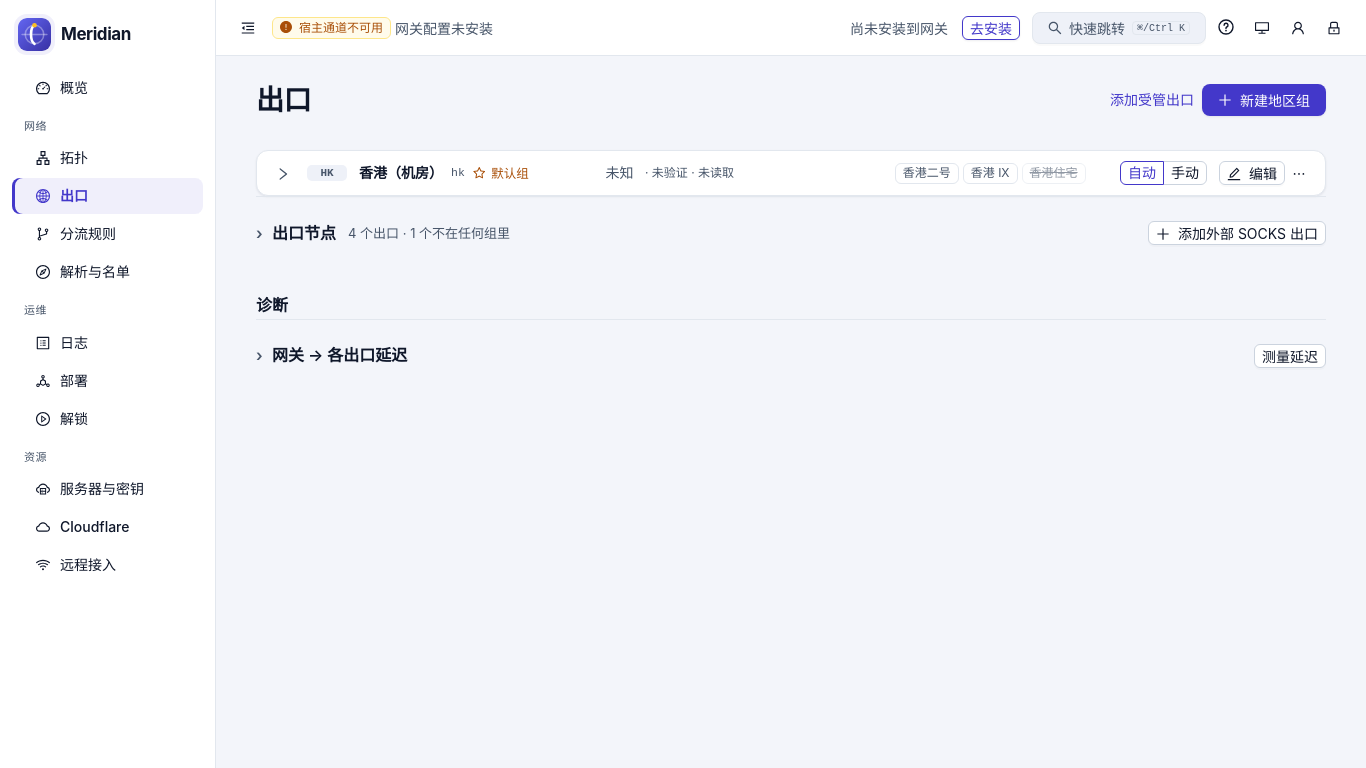
Test: region groups › shows each group as one collapsed row with the exit in use, and opens its members on demand
Click the button named "展开 ". click: x=283, y=173
box: [271,161,295,185]
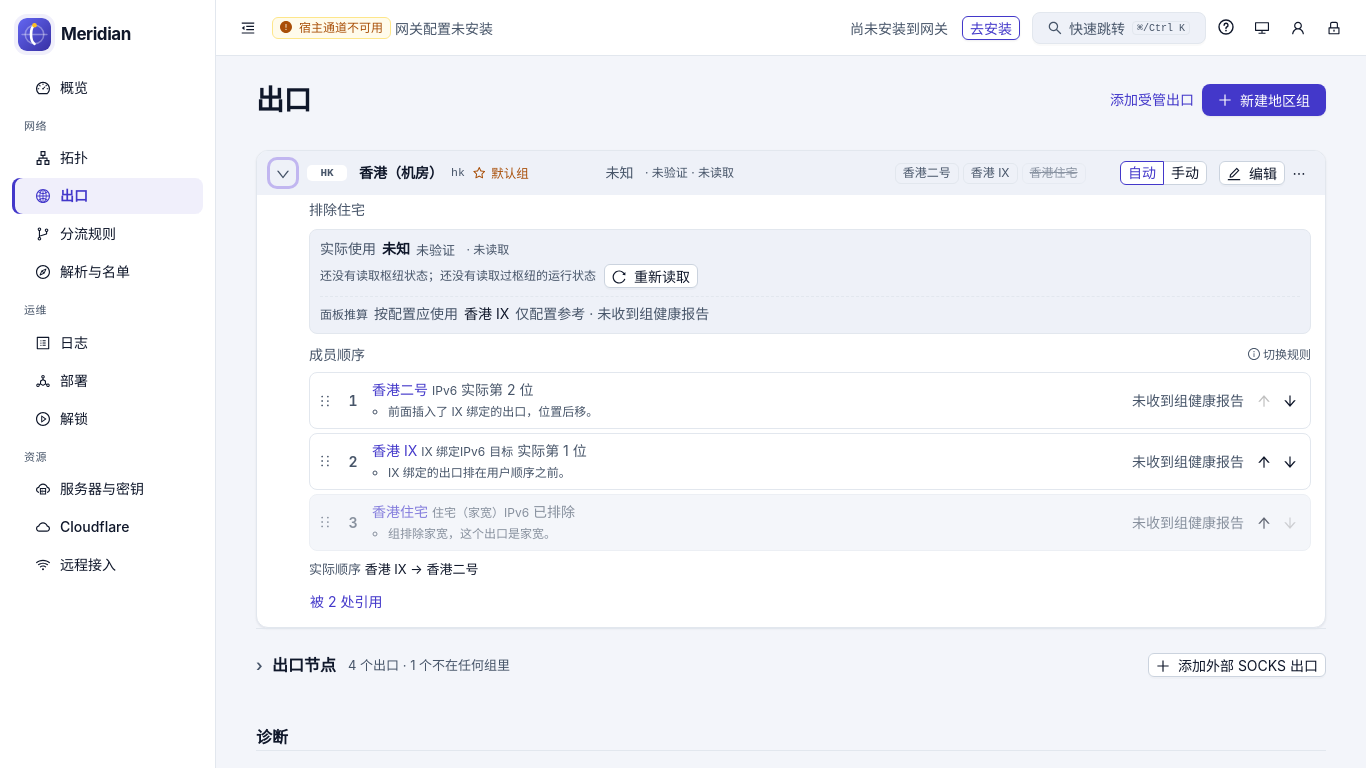
Expected: the button named "下移 香港二号" is shown, [1278,389,1302,413]
